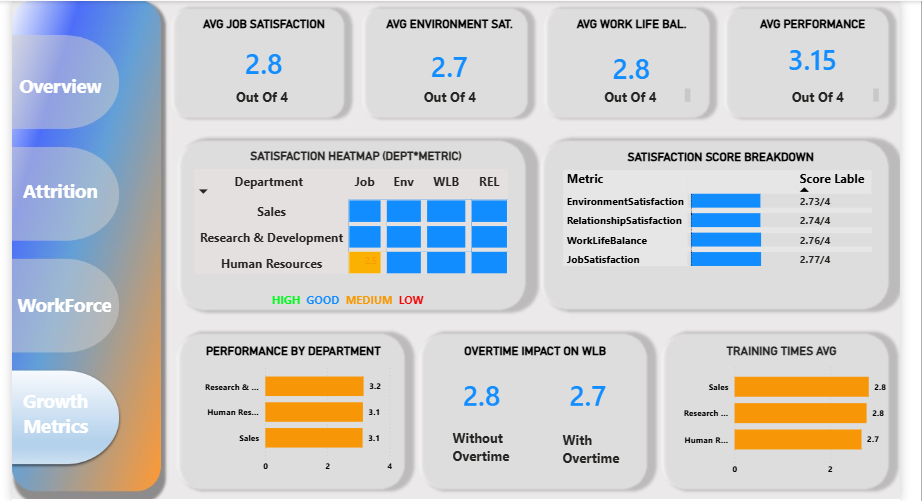

Layout of this report page (visuals, bound fields, positions):
{"tool":"powerbi","page":{"name":"Growth Metrics","canvas":[1280,720],"ordinal":3},"visuals":[{"type":"actionButton","box":[0,97.3,139,46.3],"z":0},{"type":"actionButton","box":[0,250.1,139,40.1],"z":1000},{"type":"actionButton","box":[0,414.7,151.2,40.3],"z":2000},{"type":"actionButton","box":[0,547.2,125.3,92.2],"z":3000},{"type":"cardVisual","title":"AVG JOB SATISFACTION","fields":{"Data":["Fact_HR_EmployeeData.Average Job Satisfaction"]},"box":[257.9,23.2,210,109.6],"z":4000},{"type":"textbox","box":[307.3,120.4,106.5,43.2],"z":5000},{"type":"cardVisual","title":"AVG ENVIRONMENT SAT.","fields":{"Data":["Fact_HR_EmployeeData.Average Env Satisfaction"]},"box":[525,23.2,208.4,120.4],"z":6000},{"type":"textbox","box":[526.5,120.4,206.9,47.9],"z":7000},{"type":"cardVisual","title":"AVG WORK LIFE BAL.","fields":{"Data":["Fact_HR_EmployeeData.Aveg Work Life Bal"]},"box":[787.5,23.2,208.4,123.5],"z":8000},{"type":"textbox","box":[807.5,120.4,174.5,32.4],"z":9000},{"type":"textbox","box":[1077.1,121,175.7,31.7],"z":10000},{"type":"cardVisual","title":"AVG PERFORMANCE","fields":{"Data":["Fact_HR_EmployeeData.Aveg Performance"]},"box":[1053,23.2,200.7,97.3],"z":11000},{"type":"barChart","title":"PERFORMANCE BY DEPARTMENT","fields":{"Y":["Fact_HR_EmployeeData.Aveg Performance"],"Category":["Fact_HR_EmployeeData.Department"]},"box":[257.9,494.1,294.9,194.5],"z":12000},{"type":"cardVisual","title":"OVERTIME IMPACT ON WLB","fields":{"Data":["Fact_HR_EmployeeData.Aveg Work Life Bal"],"Rows":["Fact_HR_EmployeeData.OverTime"]},"box":[600.6,494.1,305.7,159],"z":13000},{"type":"textbox","box":[630,611.4,103.4,77.2],"z":14000},{"type":"textbox","box":[787.5,614.5,103.4,77.2],"z":15000},{"type":"barChart","title":"TRAINING TIMES AVG","fields":{"Y":["Fact_HR_EmployeeData.Average Training Times"],"Category":["Fact_HR_EmployeeData.Department"]},"box":[948,494.1,321.2,197.6],"z":16000},{"type":"pivotTable","title":"SATISFACTION HEATMAP (DEPT*METRIC)","fields":{"Rows":["Fact_HR_EmployeeData.Department"],"Values":["Fact_HR_EmployeeData.Average Job Satisfaction","Fact_HR_EmployeeData.Average Env Satisfaction","Fact_HR_EmployeeData.Aveg Work Life Bal","Fact_HR_EmployeeData.Aveg Relationship Sat"]},"box":[258.1,213.8,474.8,200.6],"z":17000},{"type":"textbox","box":[306.7,414.4,353.9,36.9],"z":18000},{"type":"tableEx","title":"SATISFACTION SCORE BREAKDOWN","fields":{"Values":["Satisfaction Log.Metric","Satisfaction Log.AVG Score1","Satisfaction Log.AVG Score"]},"box":[788,214.4,465.7,219],"z":19000}]}

Visuals, with their boxes on the page's 1280x720 design canvas (x1, y1, x2, y2). These are canvas units, not pixel positions in the 922x501 screenshot, which may show the page scaled, cropped or inside an application window:
actionButton: (left=0, top=97, right=139, bottom=144)
actionButton: (left=0, top=250, right=139, bottom=290)
actionButton: (left=0, top=415, right=151, bottom=455)
actionButton: (left=0, top=547, right=125, bottom=639)
"AVG JOB SATISFACTION" cardVisual: (left=258, top=23, right=468, bottom=133)
textbox: (left=307, top=120, right=414, bottom=164)
"AVG ENVIRONMENT SAT." cardVisual: (left=525, top=23, right=733, bottom=144)
textbox: (left=526, top=120, right=733, bottom=168)
"AVG WORK LIFE BAL." cardVisual: (left=788, top=23, right=996, bottom=147)
textbox: (left=808, top=120, right=982, bottom=153)
textbox: (left=1077, top=121, right=1253, bottom=153)
"AVG PERFORMANCE" cardVisual: (left=1053, top=23, right=1254, bottom=120)
"PERFORMANCE BY DEPARTMENT" barChart: (left=258, top=494, right=553, bottom=689)
"OVERTIME IMPACT ON WLB" cardVisual: (left=601, top=494, right=906, bottom=653)
textbox: (left=630, top=611, right=733, bottom=689)
textbox: (left=788, top=614, right=891, bottom=692)
"TRAINING TIMES AVG" barChart: (left=948, top=494, right=1269, bottom=692)
"SATISFACTION HEATMAP (DEPT*METRIC)" pivotTable: (left=258, top=214, right=733, bottom=414)
textbox: (left=307, top=414, right=661, bottom=451)
"SATISFACTION SCORE BREAKDOWN" tableEx: (left=788, top=214, right=1254, bottom=433)
